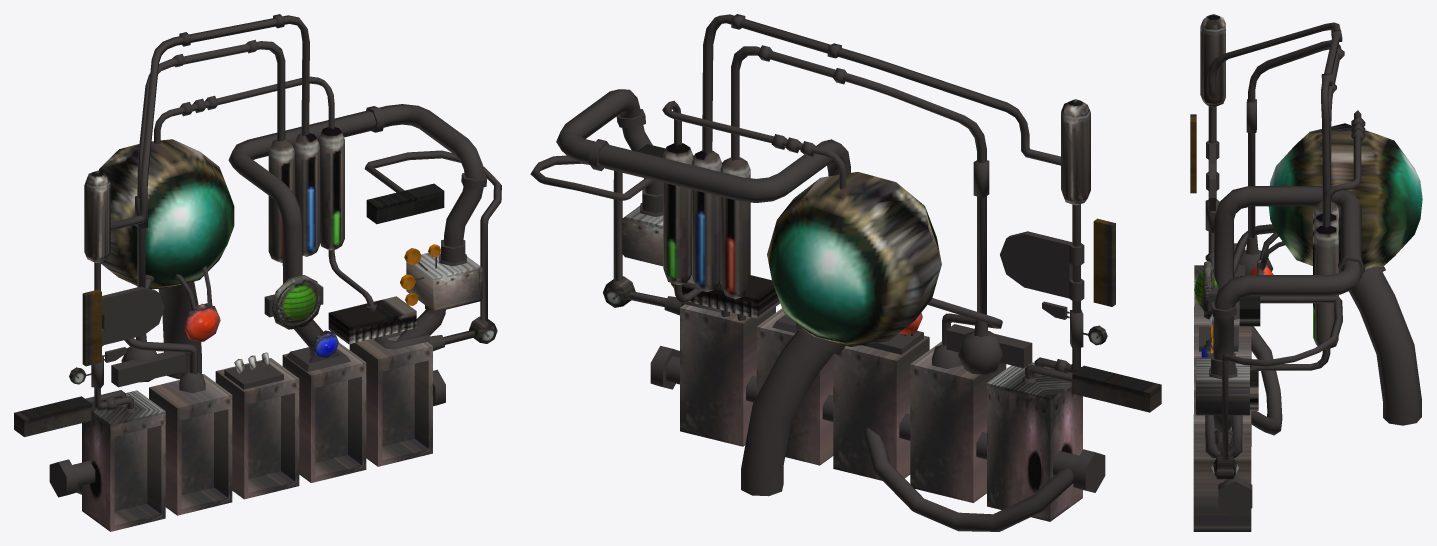
File: MachineFinal.obj
3 renders of one model, left to right at view 1: azimuth 30°, elevation 25°; view 2: azimuth 150°, elevation 25°; view 3: azimuth 270°, elevation 25°, orthographic. The views are drawn at different scales.
Parts seen in each view (by area): view 1: mesh; view 2: mesh; view 3: mesh.
Part boxes in pixels (box(x1,y1,x2,y2)): mesh: box(14, 14, 501, 531); mesh: box(530, 14, 1161, 531); mesh: box(1190, 14, 1422, 531).
Bounding box in the file's own units: 50 × 40.38 × 19.78.
Materials: 1 (1 with a texture image).
